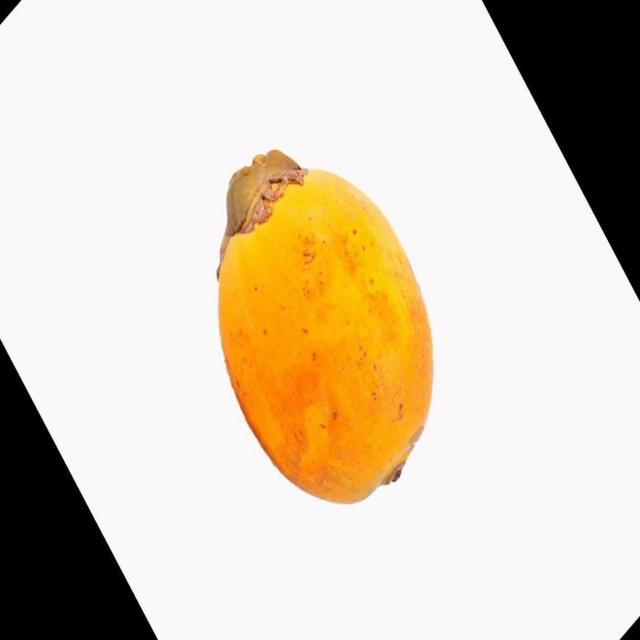good: (216, 151, 436, 507)
